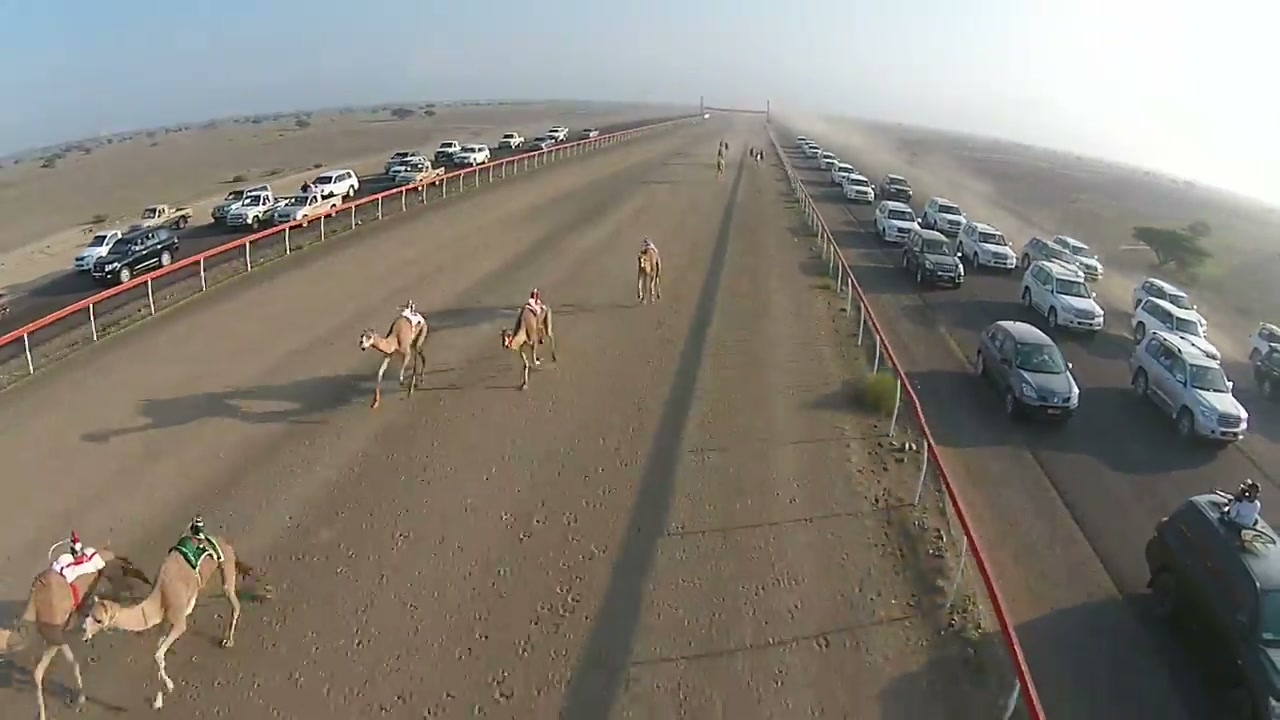animal_foot_print: (286, 393, 611, 695)
